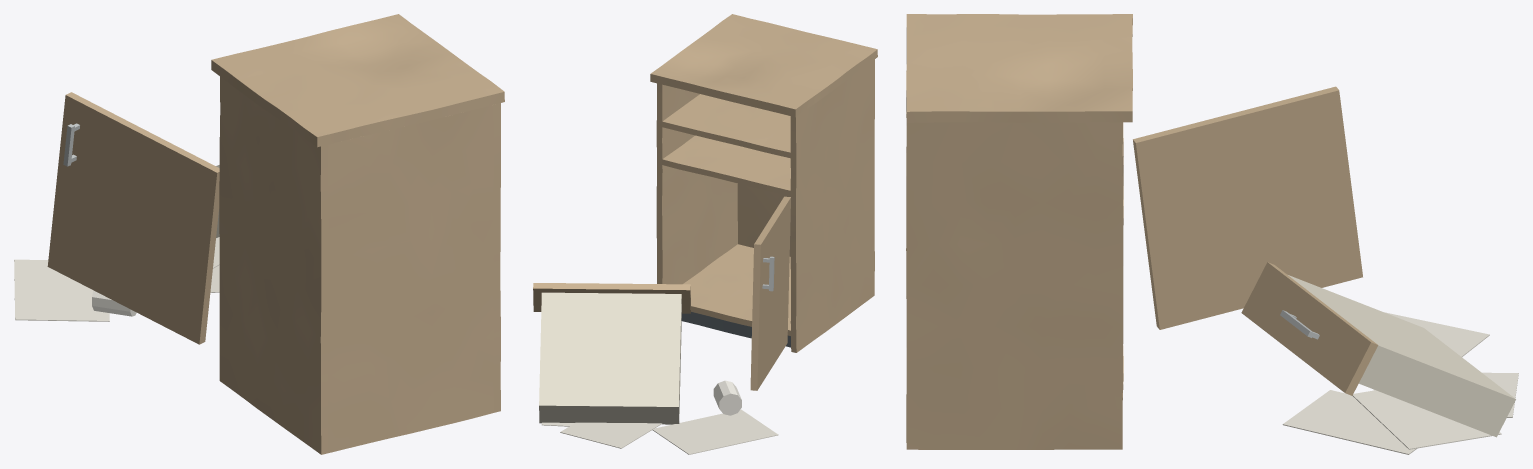
File: bedside_table_broken.fbx
The picture shows the model from 3 angles, left to right: view 1: azimuth 30°, elevation 25°; view 2: azimuth 150°, elevation 25°; view 3: azimuth 270°, elevation 25°; orthographic projection. The views are drawn at different scales.
Visible parts, largest first — view 1: bedside_table_broken, bedside_table_broken_debris; view 2: bedside_table_broken, bedside_table_broken_debris; view 3: bedside_table_broken, bedside_table_broken_debris.
Boxes of the visible parts, x1,y1,x2,y2 form: bedside_table_broken: (47,14,504,454); bedside_table_broken_debris: (14,165,219,321); bedside_table_broken: (650,14,877,390); bedside_table_broken_debris: (533,283,778,454); bedside_table_broken: (906,14,1362,449); bedside_table_broken_debris: (1241,262,1518,454).
Bounding box in the file's own units: 83.32 × 78.67 × 127.
